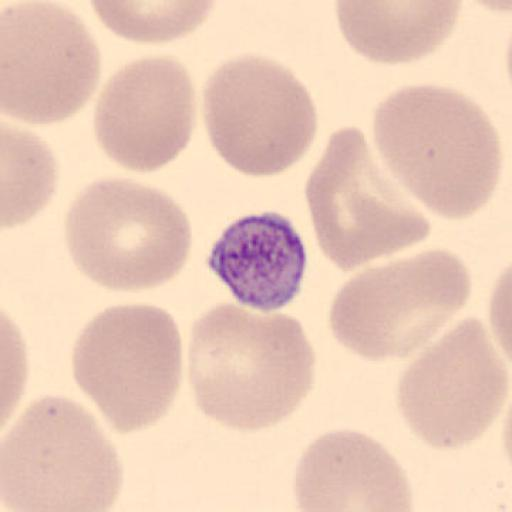Platelet: (204, 209, 311, 313)
RBC: (302, 124, 432, 270), (372, 81, 503, 218), (185, 301, 318, 434), (327, 248, 472, 361), (62, 174, 195, 293), (200, 48, 319, 180), (396, 315, 510, 451), (70, 301, 184, 435), (1, 393, 123, 512), (2, 0, 103, 128), (92, 54, 197, 174), (292, 426, 416, 512), (331, 0, 465, 68), (2, 121, 59, 230), (85, 0, 222, 45), (0, 310, 30, 435), (488, 262, 512, 378), (487, 270, 511, 362), (473, 0, 511, 17), (463, 0, 511, 13)
